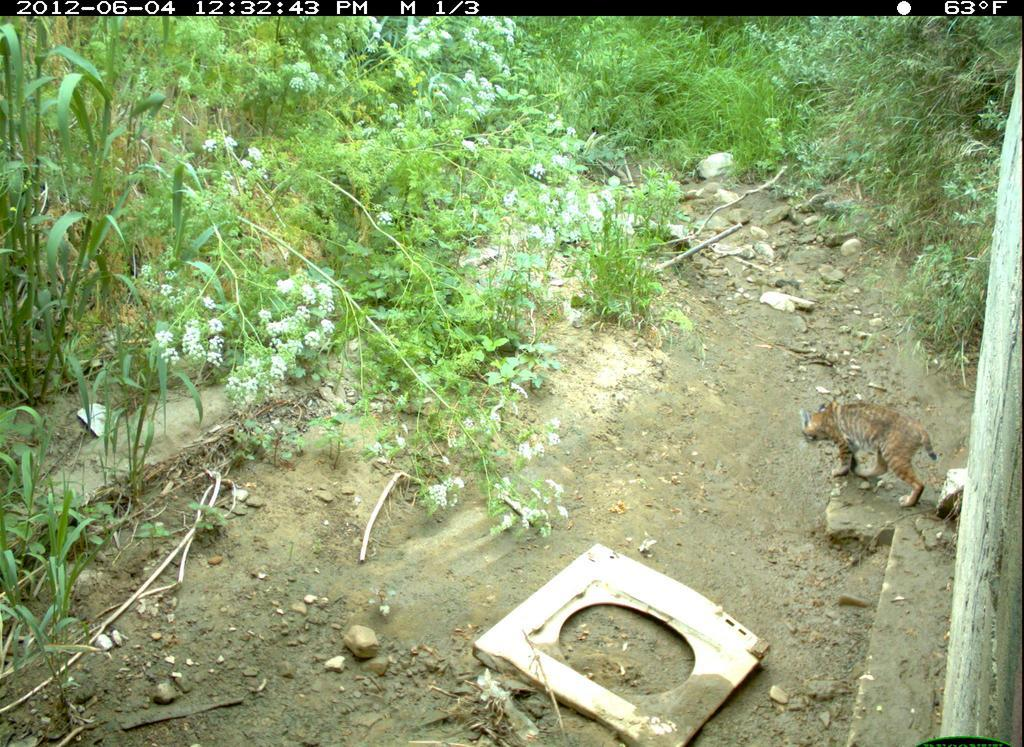bobcat: (781, 387, 961, 527)
